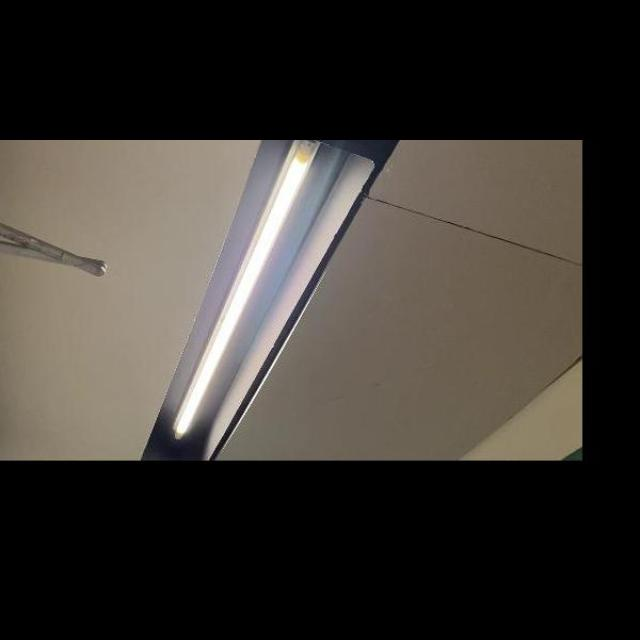Straight-Tube-Fluorescent-Lamp: (162, 140, 332, 444)
